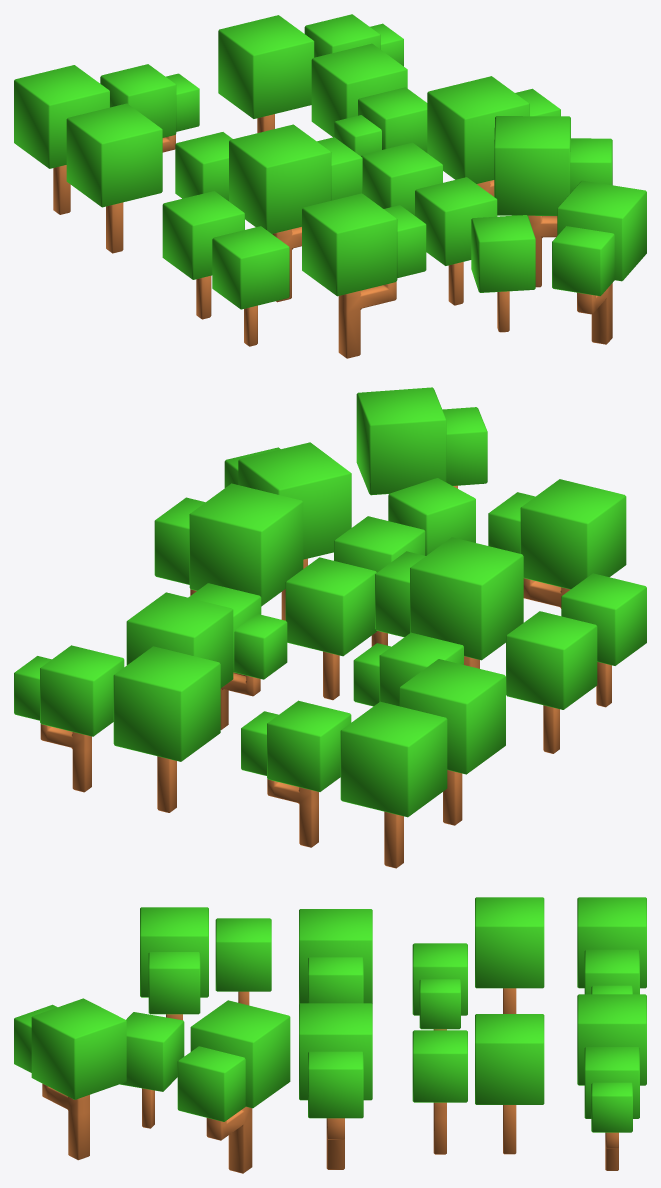
File: TreeStacks_Model.fbx
The picture shows the model from 3 angles, top to bottom: view 1: azimuth 30°, elevation 25°; view 2: azimuth 150°, elevation 25°; view 3: azimuth 270°, elevation 25°; orthographic projection. The views are drawn at different scales.
Parts seen in each view (by area): view 1: Tree_Stack_07_Model, Tree_Stack_04_Model, Tree_Stack_05_Model, Tree_Stack_03_Model, Tree_Stack_06_Model, Tree_Stack_02_Model, Tree_Stack_01_Model; view 2: Tree_Stack_07_Model, Tree_Stack_06_Model, Tree_Stack_05_Model, Tree_Stack_03_Model, Tree_Stack_01_Model, Tree_Stack_04_Model, Tree_Stack_02_Model; view 3: Tree_Stack_07_Model, Tree_Stack_05_Model, Tree_Stack_06_Model, Tree_Stack_04_Model, Tree_Stack_02_Model, Tree_Stack_03_Model, Tree_Stack_01_Model.
Boxes of the visible parts, x1,y1,x2,y2 form: Tree_Stack_07_Model: (415,116,646,344); Tree_Stack_04_Model: (212,193,426,358); Tree_Stack_05_Model: (218,14,407,137); Tree_Stack_03_Model: (162,124,362,319); Tree_Stack_06_Model: (334,76,560,215); Tree_Stack_02_Model: (66,103,232,253); Tree_Stack_01_Model: (14,64,199,214); Tree_Stack_07_Model: (224,387,487,646); Tree_Stack_06_Model: (154,483,376,729); Tree_Stack_05_Model: (14,592,233,812); Tree_Stack_03_Model: (375,537,597,753); Tree_Stack_01_Model: (241,700,447,868); Tree_Stack_04_Model: (488,479,646,707); Tree_Stack_02_Model: (353,632,505,825); Tree_Stack_07_Model: (14,998,290,1173); Tree_Stack_05_Model: (475,994,646,1170); Tree_Stack_06_Model: (299,1003,467,1169); Tree_Stack_04_Model: (140,907,271,1020); Tree_Stack_02_Model: (412,897,544,1030); Tree_Stack_03_Model: (299,909,372,1003); Tree_Stack_01_Model: (577,897,646,994).
Bounding box in the file's own units: 605 × 231 × 891.
